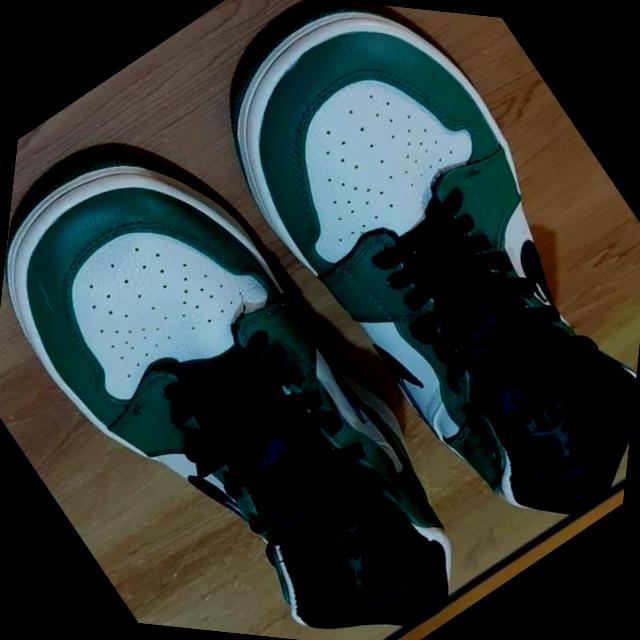nike_fake_jordan: (0, 74, 550, 640), (132, 0, 640, 582)
